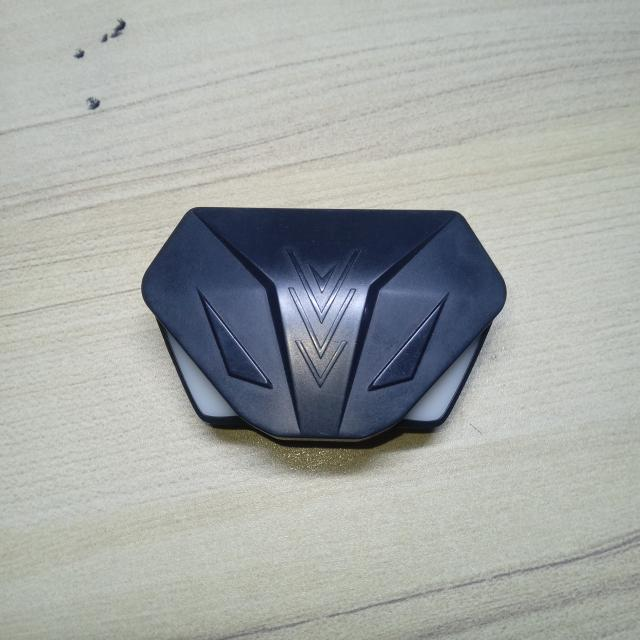earpods: (139, 202, 511, 456)
